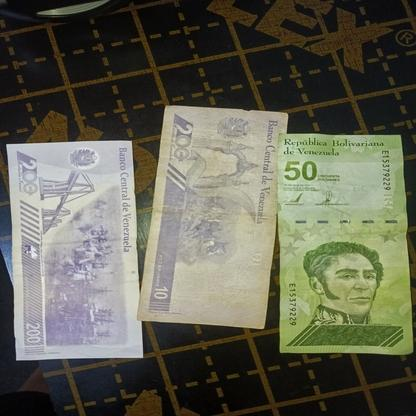fifty-front-vef: (276, 134, 416, 355)
ten-back-vef: (136, 106, 290, 329)
two_hundred-back-vef: (2, 140, 144, 359)
